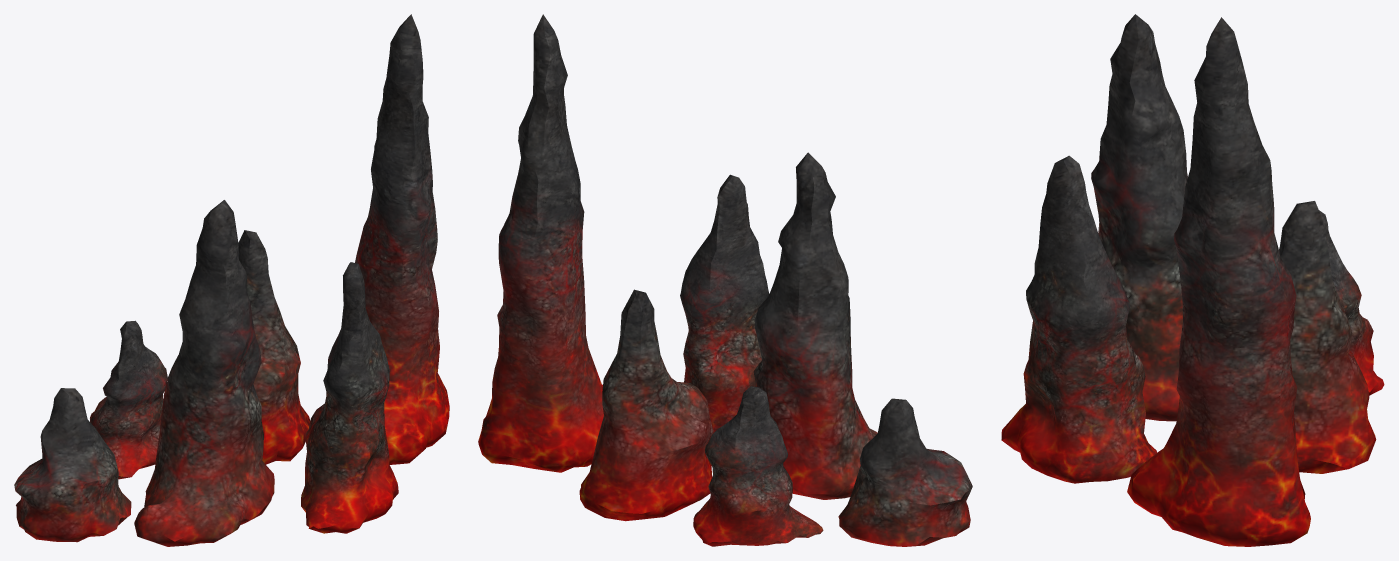
Rendered from picos.obj.
3 renders of one model, left to right at view 1: azimuth 30°, elevation 25°; view 2: azimuth 150°, elevation 25°; view 3: azimuth 270°, elevation 25°, orthographic. The views are drawn at different scales.
Parts seen in each view (by area): view 1: Picos; view 2: Picos; view 3: Picos.
Boxes of the visible parts, x1,y1,x2,y2 form: Picos: (14,14,449,546); Picos: (478,14,972,546); Picos: (1001,14,1384,546).
Bounding box in the file's own units: 2.33 × 2.11 × 1.42.
